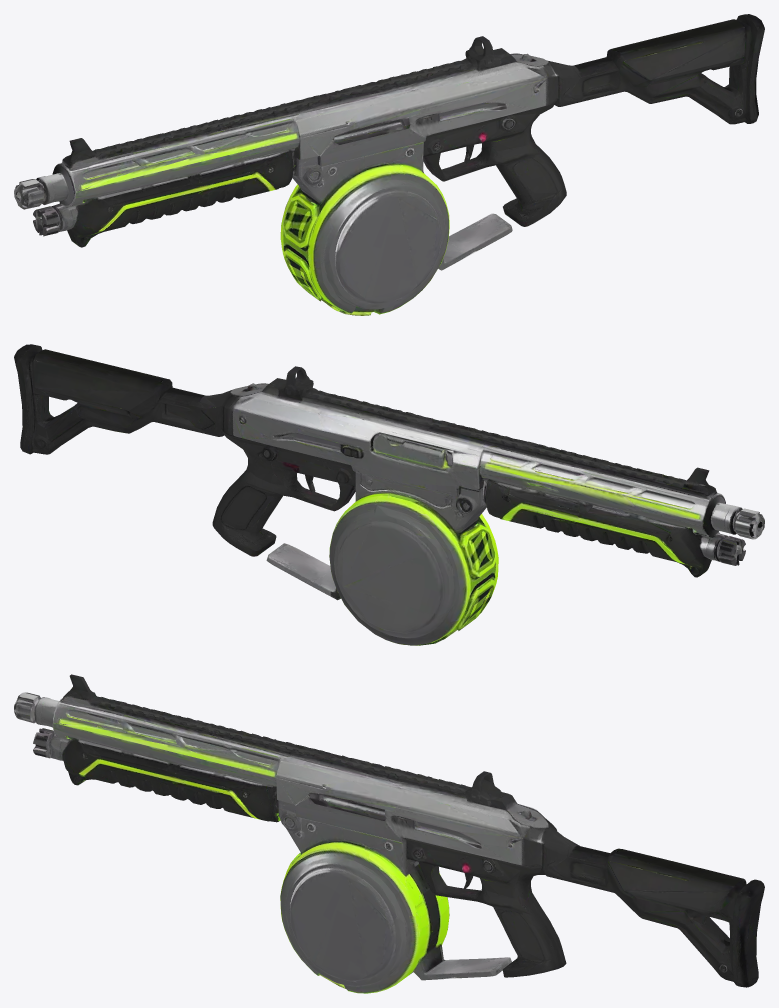
Rendered from gun_autosg.glb.
The picture shows the model from 3 angles, top to bottom: view 1: azimuth 30°, elevation 25°; view 2: azimuth 150°, elevation 25°; view 3: azimuth 330°, elevation 25°; orthographic projection.
Parts seen in each view (by area): view 1: Mesh_0; view 2: Mesh_0; view 3: Mesh_0.
Part boxes in pixels (left/top/right/bottom): Mesh_0: left=14, top=14, right=764, bottom=315; Mesh_0: left=14, top=344, right=764, bottom=645; Mesh_0: left=14, top=674, right=764, bottom=993.
Bounding box in the file's own units: 1.9 × 0.5871 × 0.2219.
Materials: 1 (1 with a texture image).
